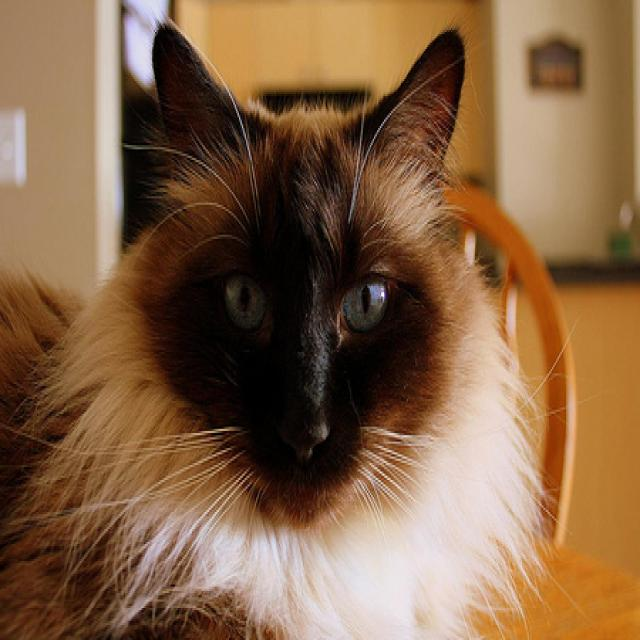Birman: (0, 13, 538, 640)
